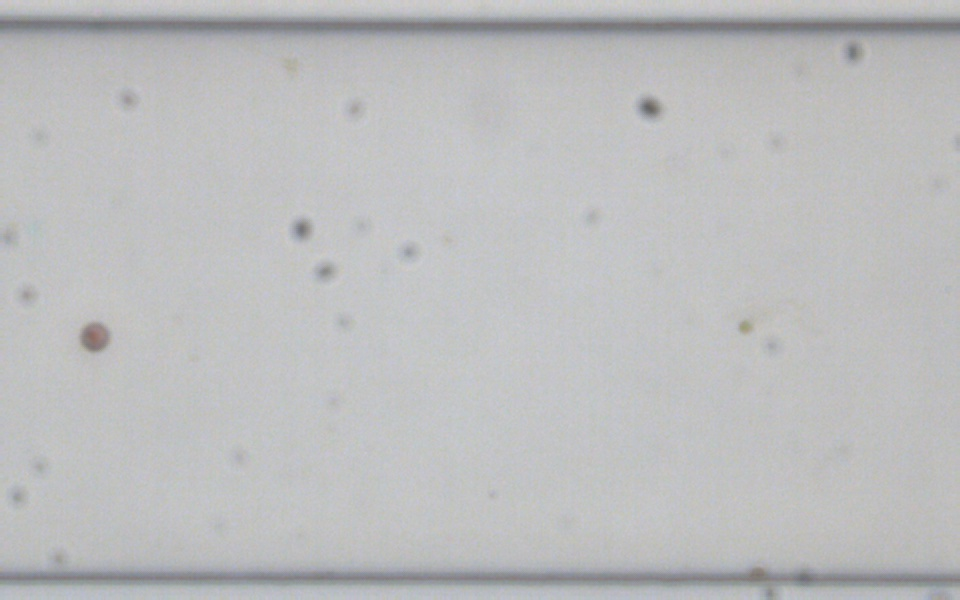Chlorella: (735, 317, 753, 334)
Porphyridium: (76, 319, 111, 353)
